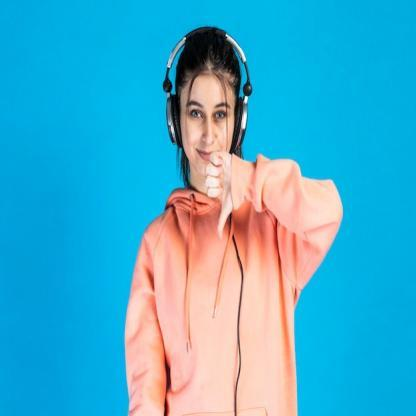thumb_down: (202, 149, 242, 244)
